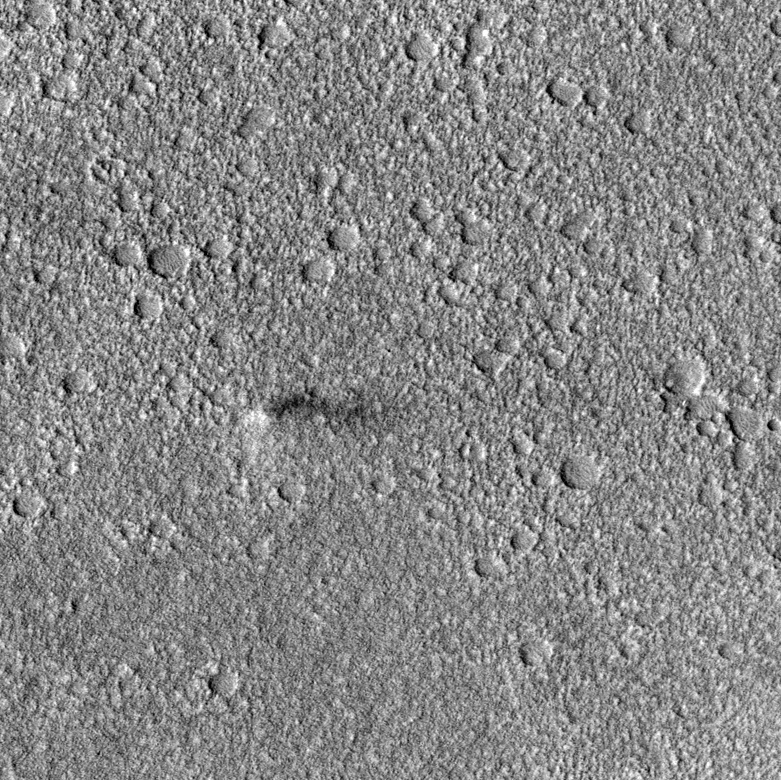dust_devil: (241, 389, 387, 435)
